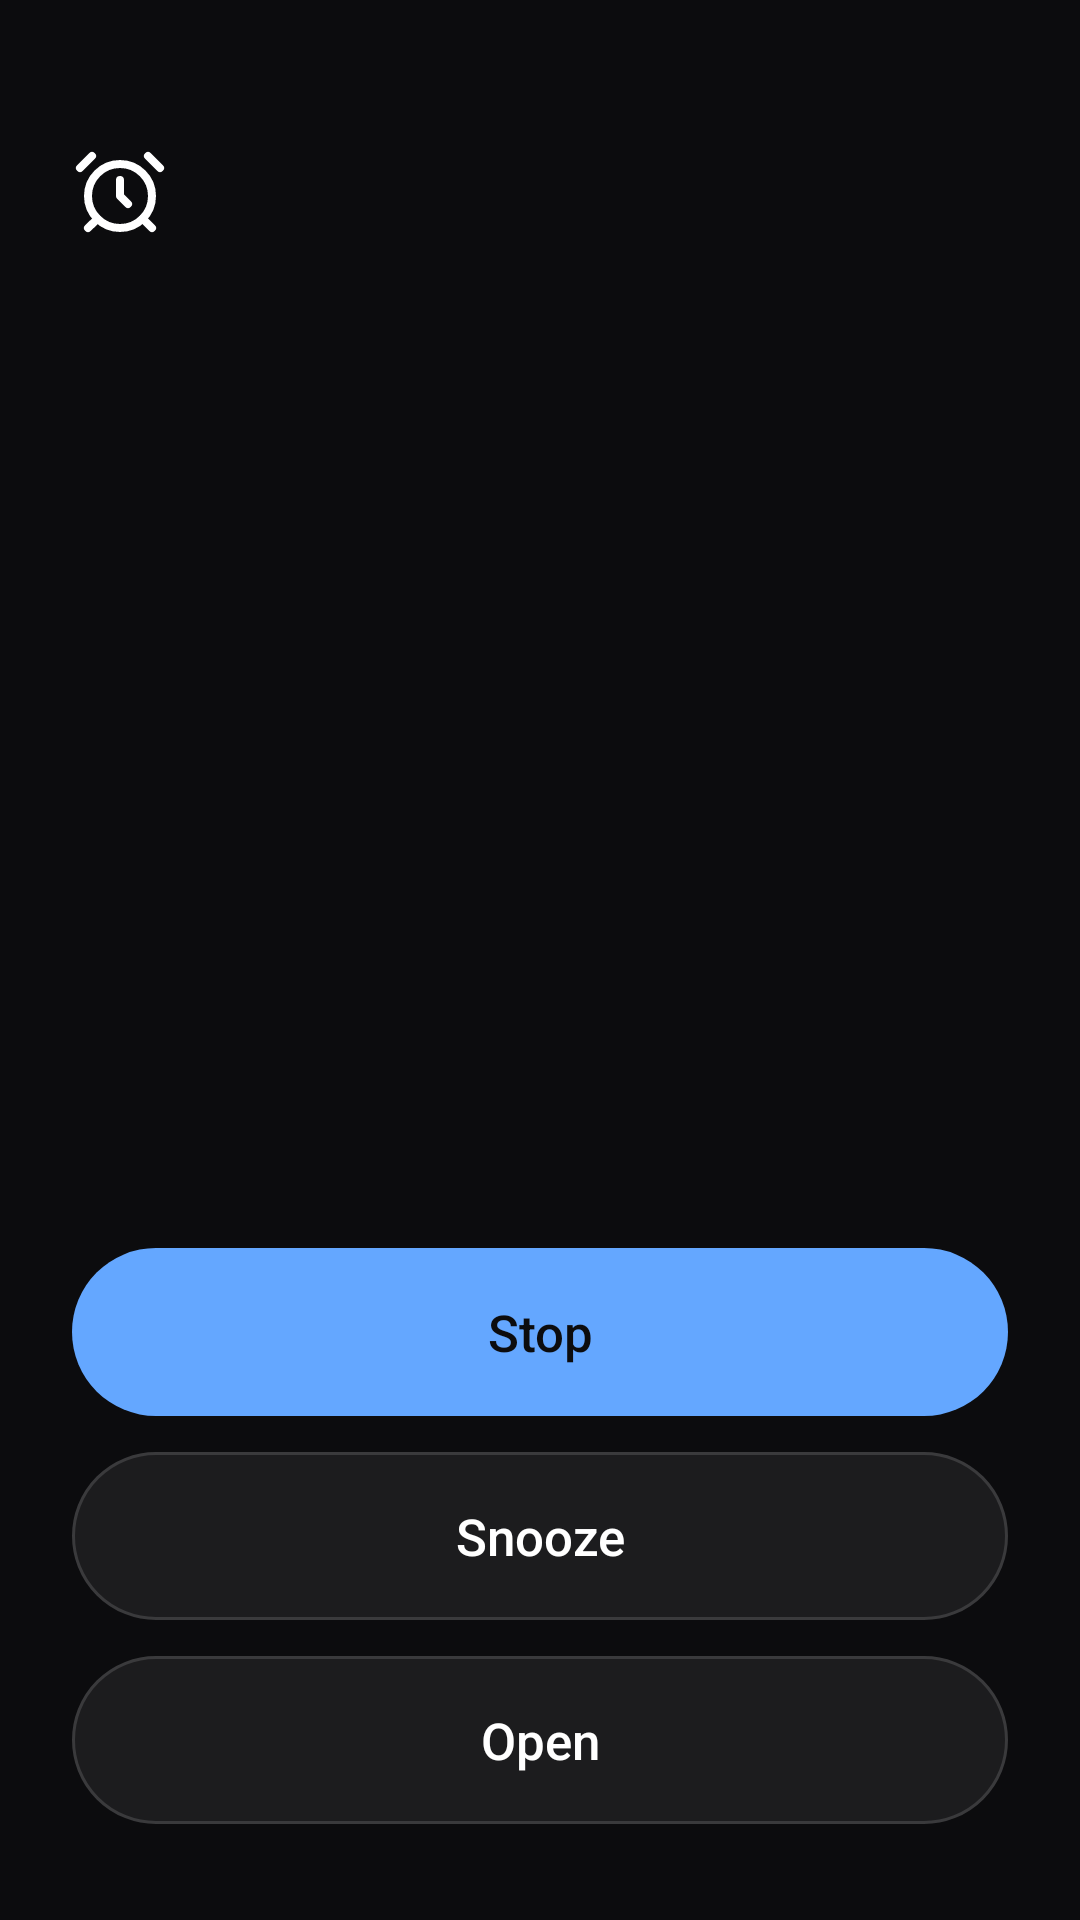

Named icons in this screenshot (1080 x 1920) and their centers, [x,y]:
alarm: [120,192]
